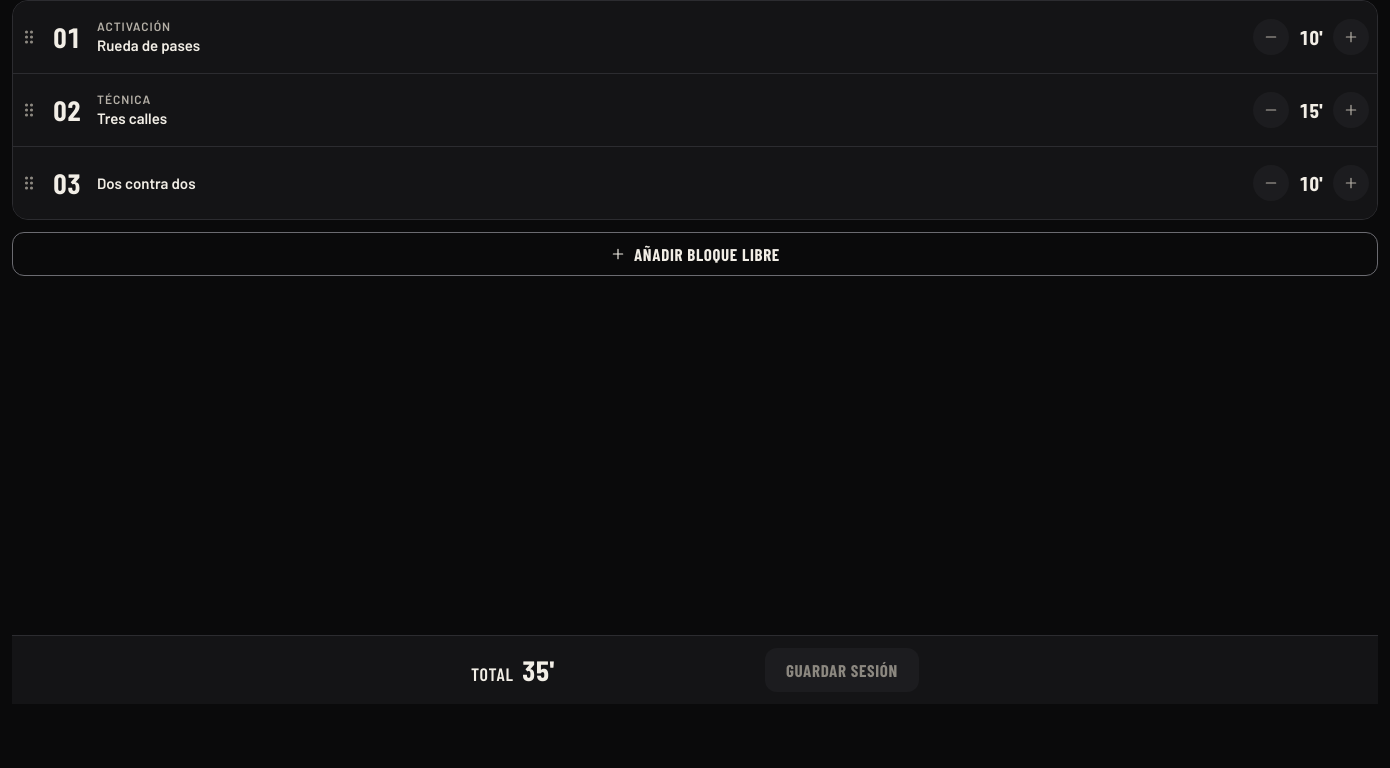
it: PracticeBuilder · añadir y quitar › añadir y quitar un bloque libre
Click the button "Activación Rueda de pases" at (134,26), box [97,15,1245,59]
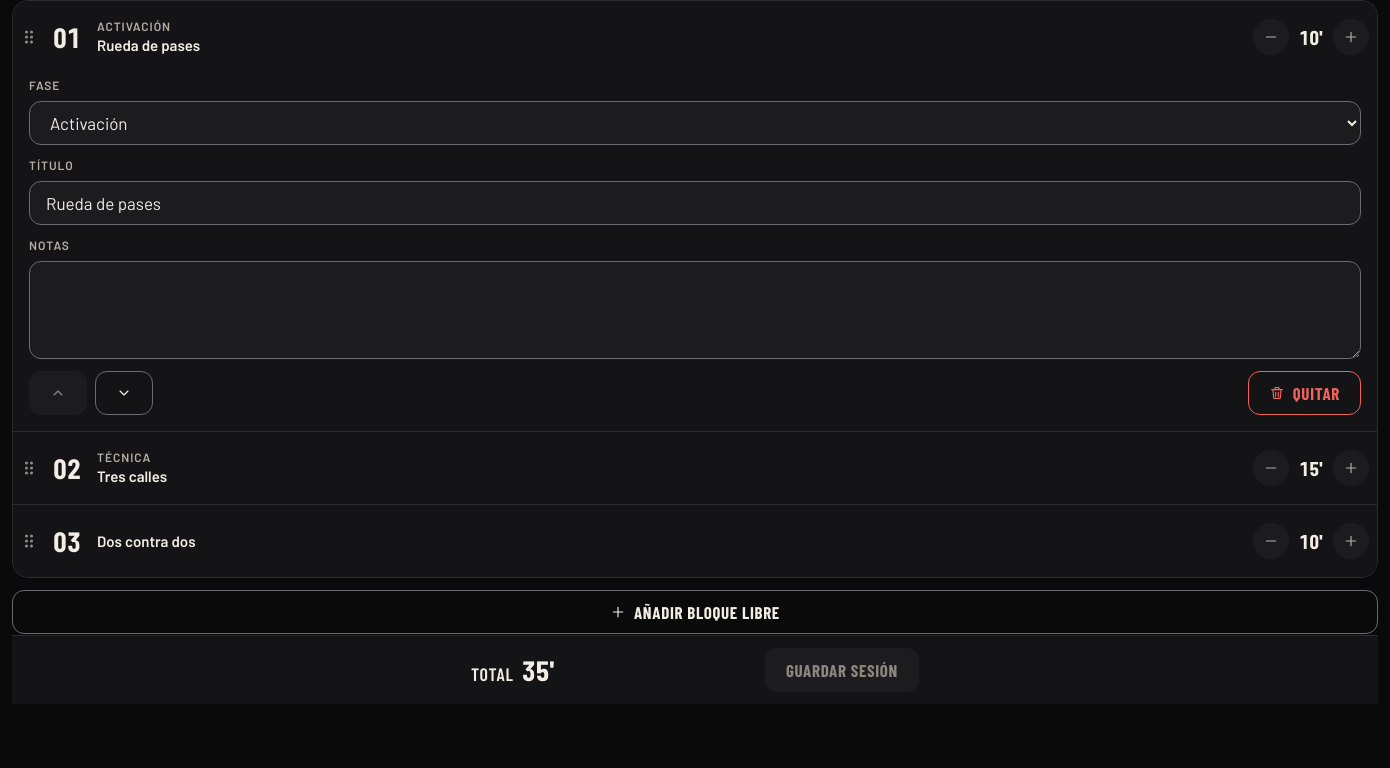
Click the button "Añadir bloque libre" at (695,612), box [12,590,1378,634]
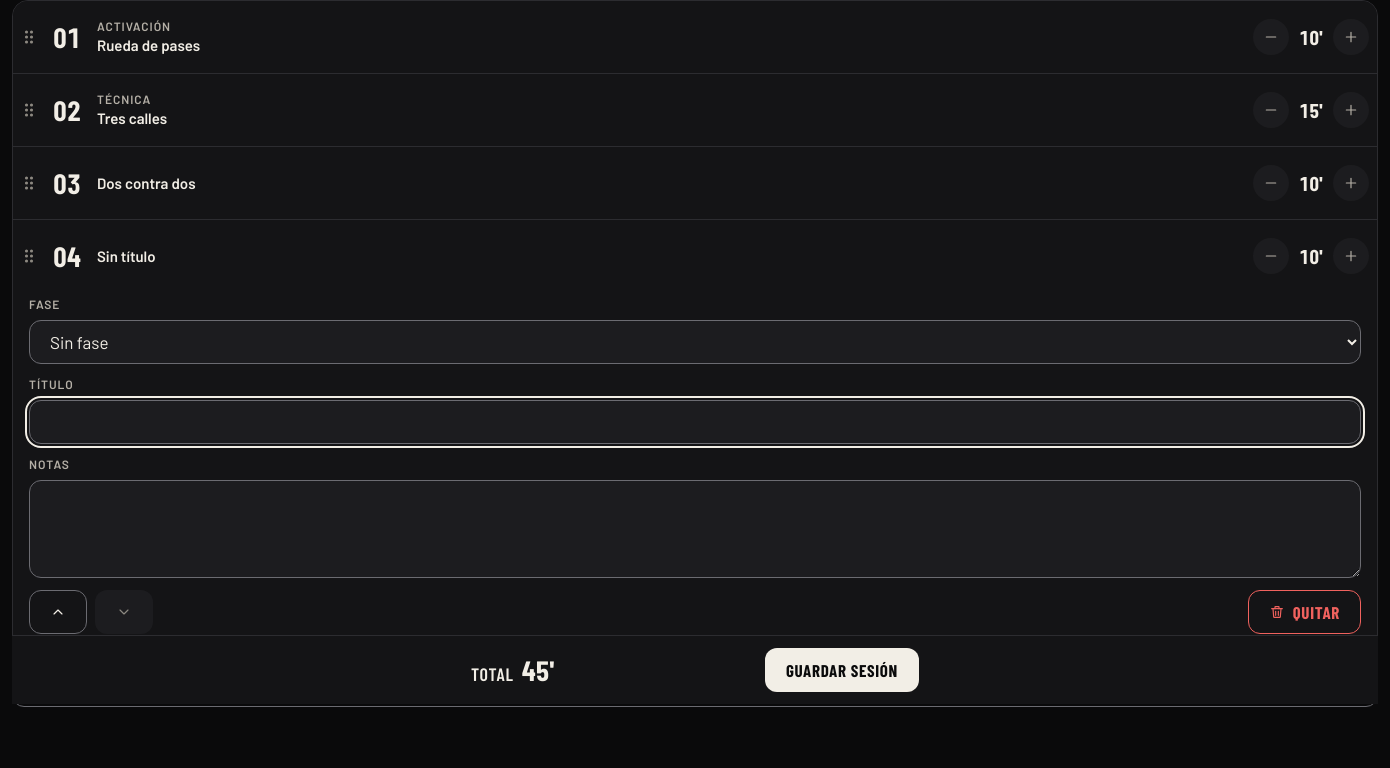
Check: the list item "04 Sin título 10' Fase Título Notas Quitar" is shown, box [13,219,1377,650]
Check: the field labelled "Título" is empty
Check: the dropdown labelled "Fase" shows "Sin fase", box [29,320,1361,364]
Type "Juego libre" into the field labelled "Título" at (695,422), box [29,400,1361,444]
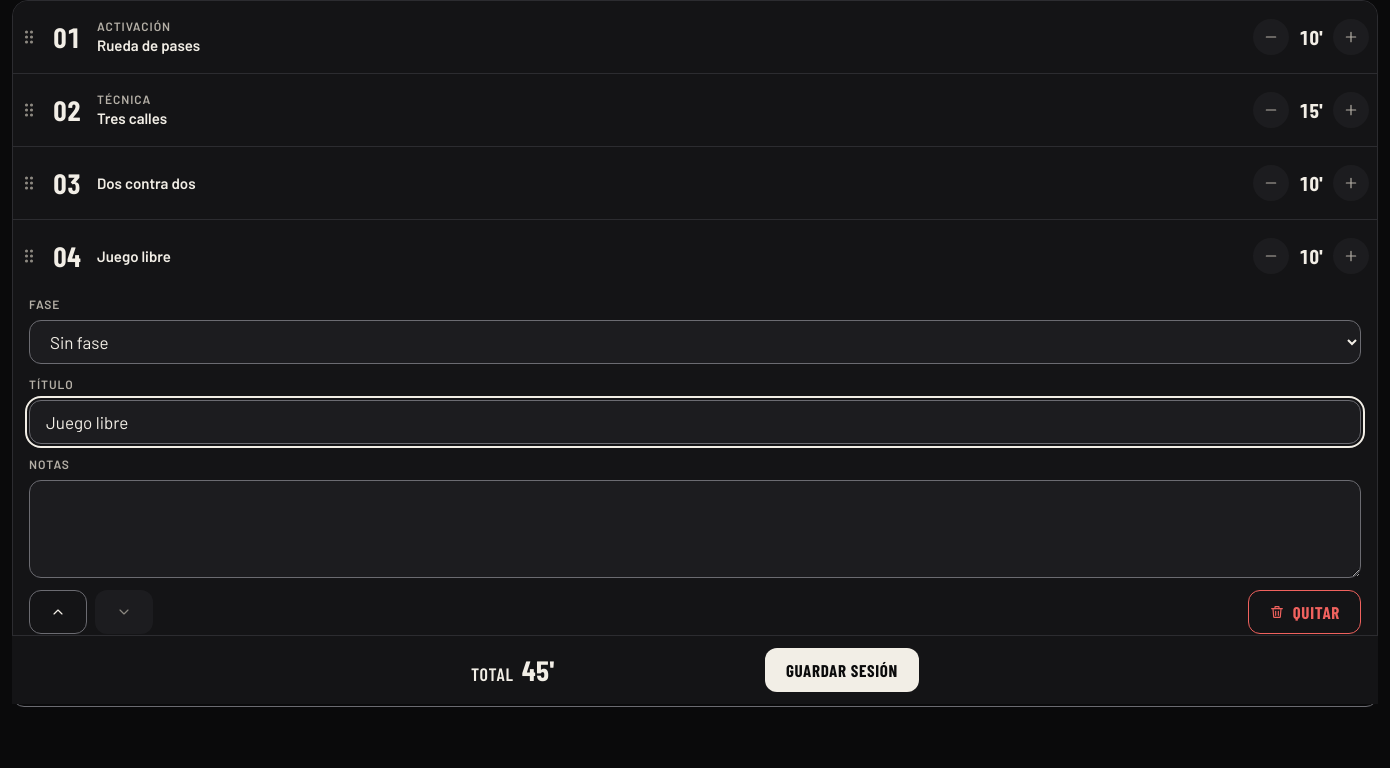
Click the button with aria-label "Quitar Juego libre" at (1304,612), box [1248,590,1361,634]
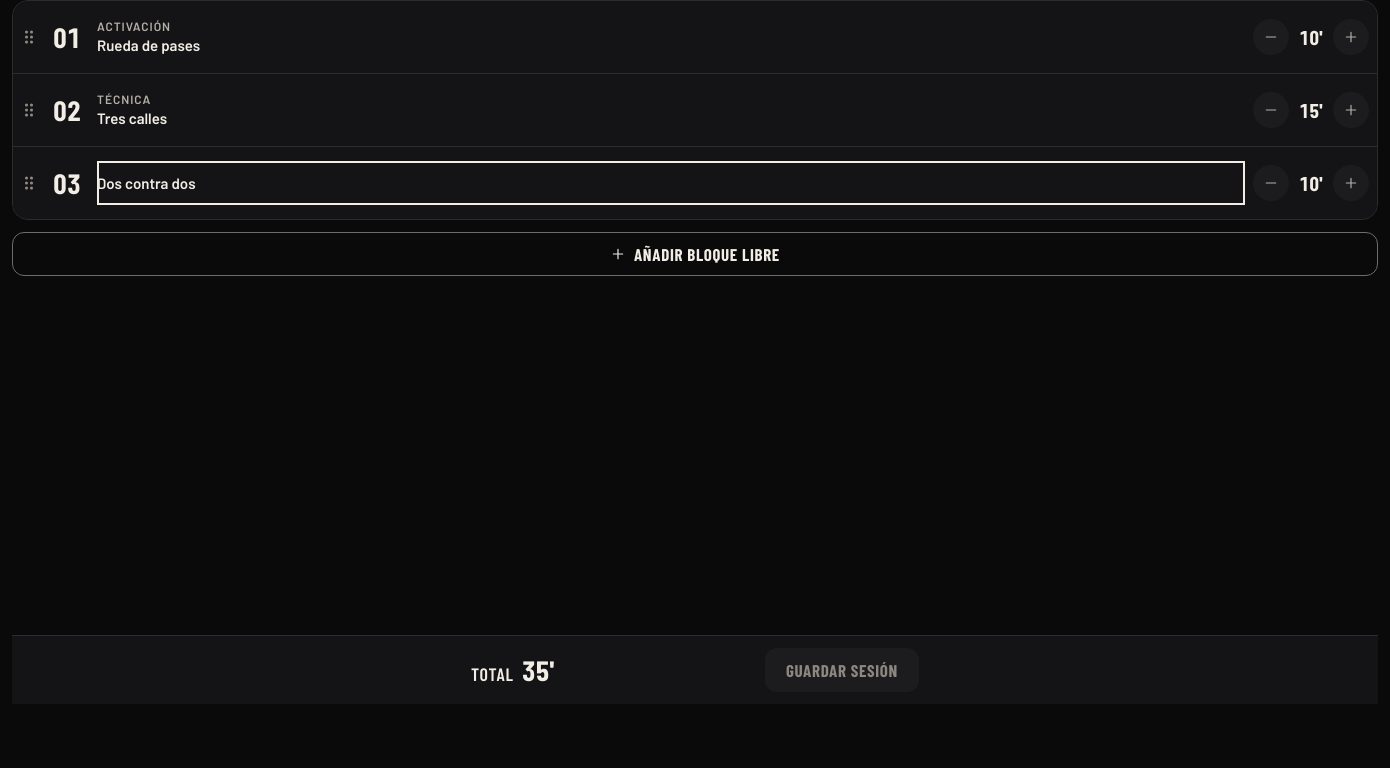
Check: the text "35'" is shown, box [522,652,554,686]
Check: the label labelled "Título" is gone
